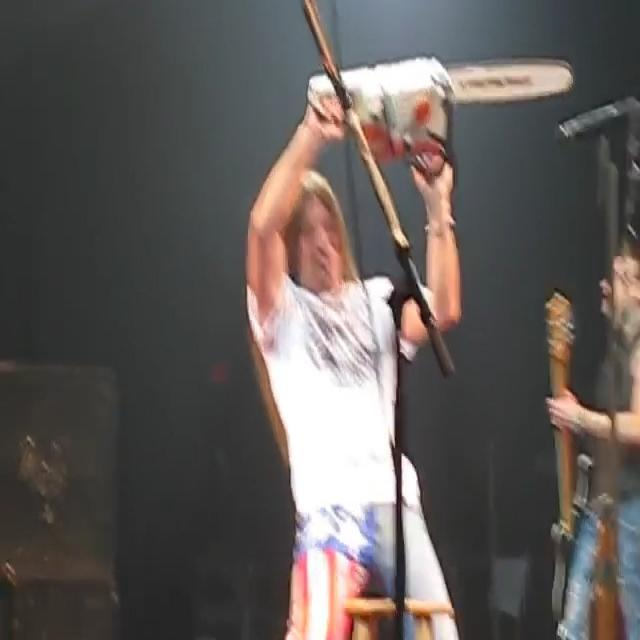Chainsaw: (294, 34, 588, 185)
